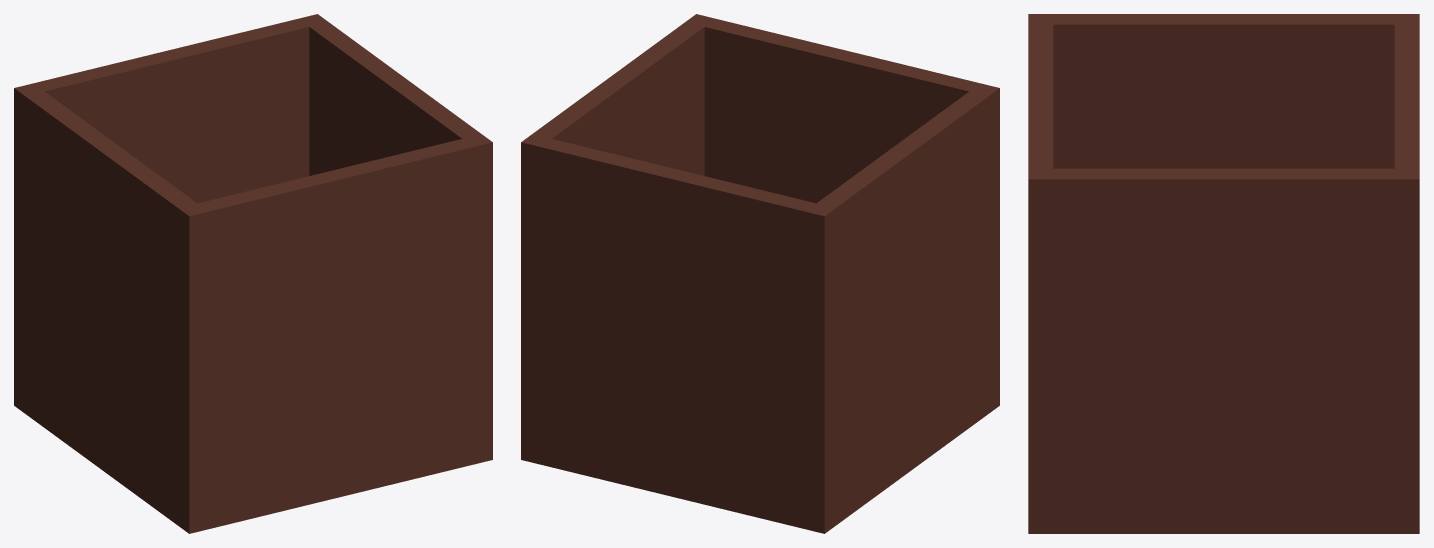
The model's file is Maceta.obj.
3 renders of one model, left to right at view 1: azimuth 30°, elevation 25°; view 2: azimuth 150°, elevation 25°; view 3: azimuth 270°, elevation 25°, orthographic. The views are drawn at different scales.
Visible parts, largest first — view 1: polySurface2; view 2: polySurface2; view 3: polySurface2.
Part boxes in pixels (<box>): polySurface2: <box>14,14,492,533</box>; polySurface2: <box>521,14,999,533</box>; polySurface2: <box>1028,14,1419,533</box>.
Size of the model in its own units: 1 by 1 by 1.
Materials: 1 (1 with a texture image).
